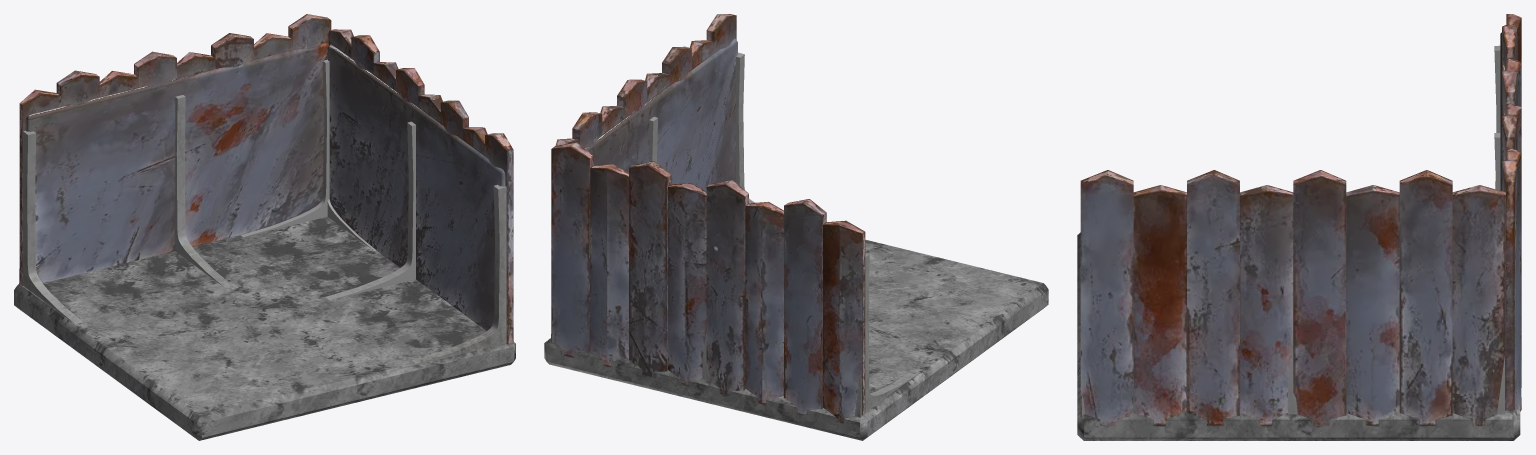
The model's file is fence_corner.glb.
The picture shows the model from 3 angles, left to right: view 1: azimuth 30°, elevation 25°; view 2: azimuth 150°, elevation 25°; view 3: azimuth 270°, elevation 25°; orthographic projection. The views are drawn at different scales.
Visible parts, largest first — view 1: Cube_0; view 2: Cube_0; view 3: Cube_0.
Boxes of the visible parts, x1,y1,x2,y2 form: Cube_0: (14,14,515,440); Cube_0: (544,14,1048,440); Cube_0: (1077,14,1521,440).
Size of the model in its own units: 2.01 by 1.33 by 2.01.
Materials: 1 (1 with a texture image).
